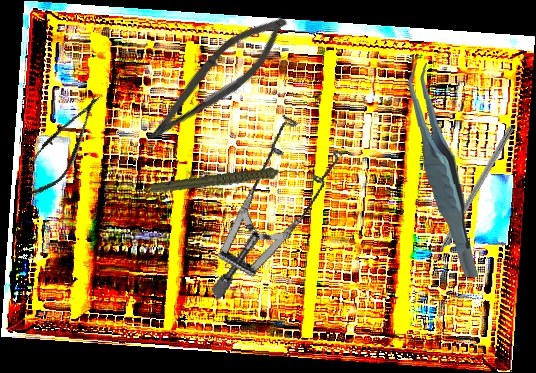Handpiece: (149, 151, 301, 212)
Hook Surgical: (422, 124, 516, 278)
Micro Scissor: (136, 0, 298, 161), (15, 85, 113, 204)
Speculum: (157, 98, 376, 302)
Tissue Forceps: (407, 60, 479, 280)
